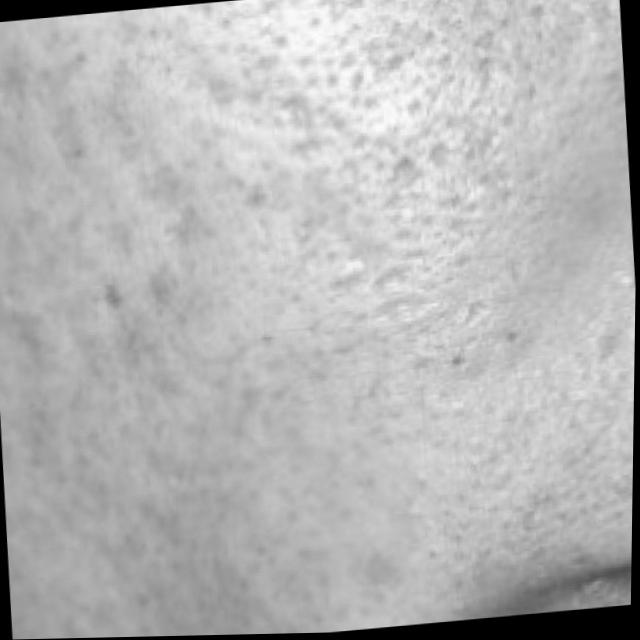Acne: (0, 28, 582, 545)
